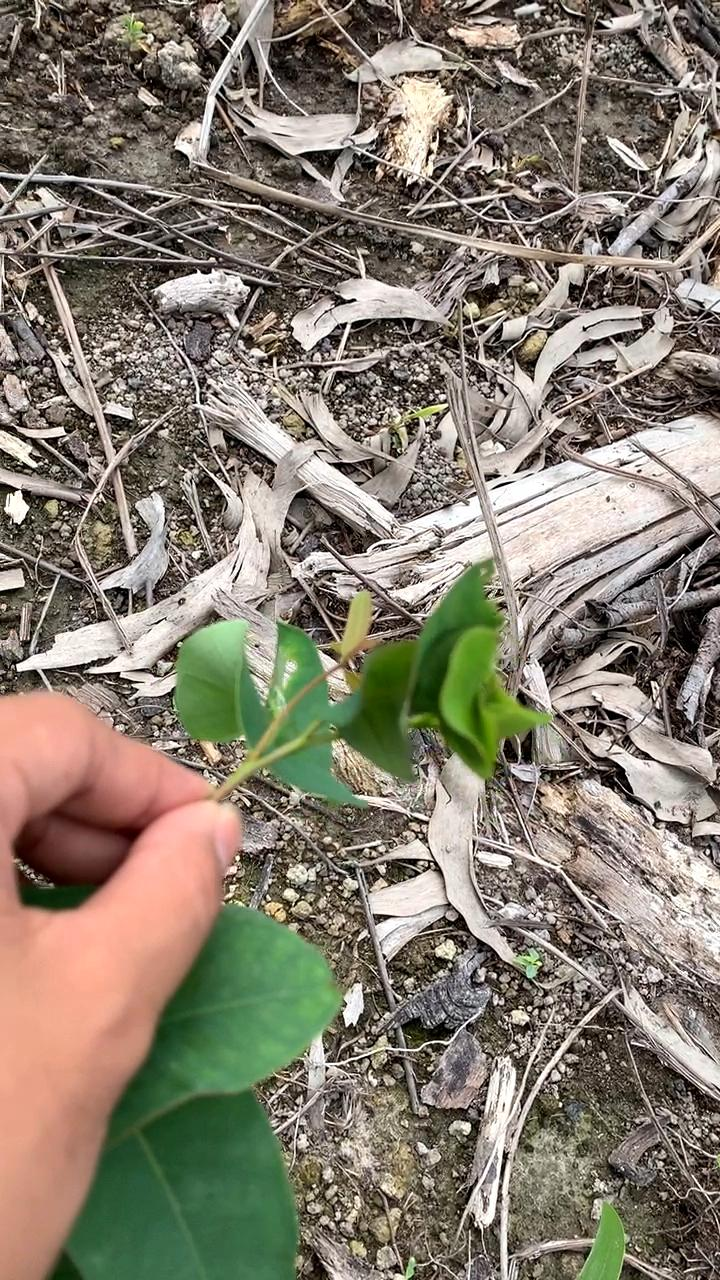Leaf Roller - Leaf: (359, 566, 536, 785)
